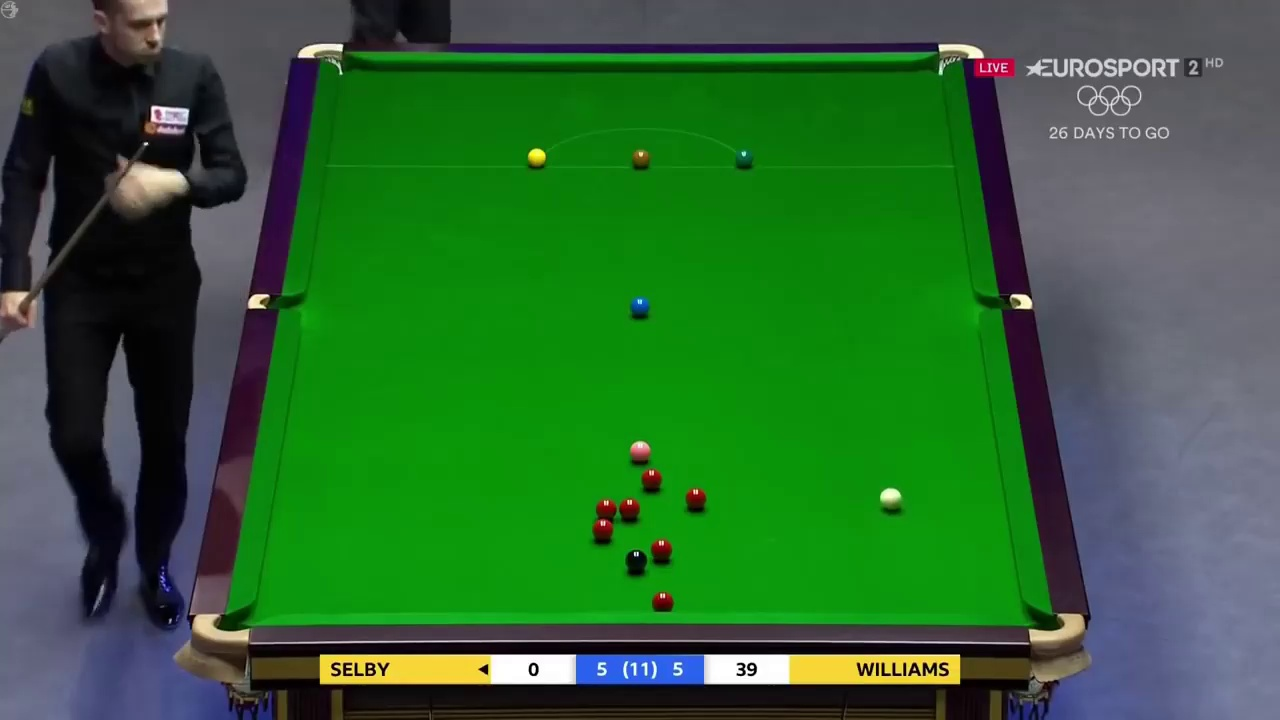ball: (628, 438, 653, 463), (618, 495, 640, 519), (590, 519, 614, 541), (628, 295, 649, 318), (623, 549, 646, 570), (685, 488, 707, 509), (639, 469, 661, 490), (651, 539, 672, 560), (733, 147, 754, 166), (525, 148, 545, 166), (631, 148, 649, 166)
